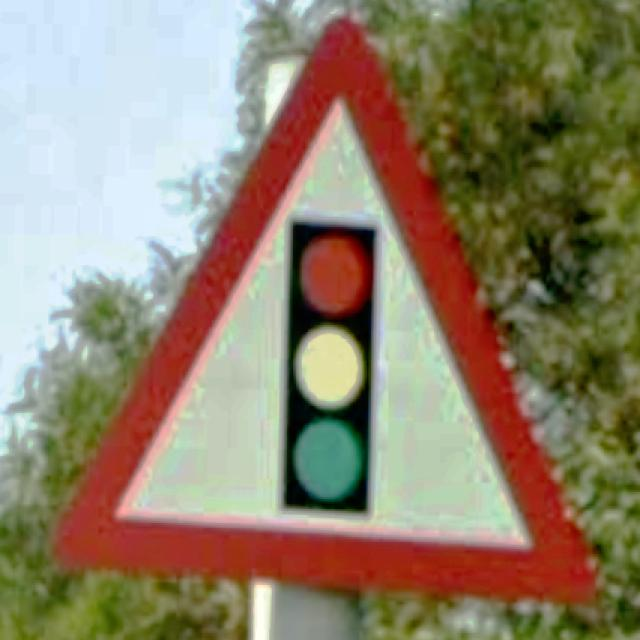signalahead: (53, 17, 596, 601)
